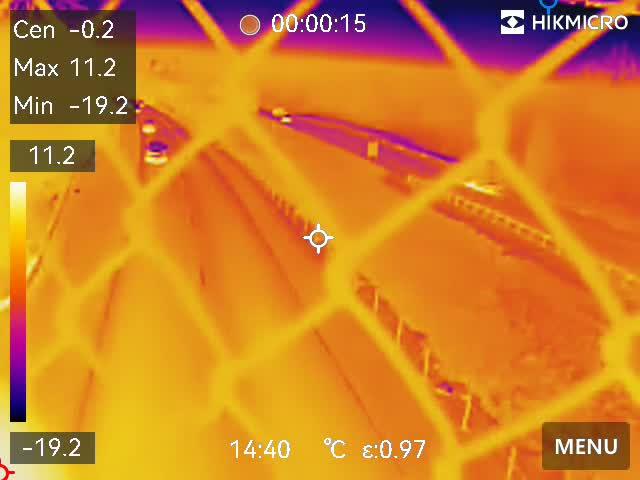vehicle: (144, 140, 168, 169), (139, 117, 156, 137)
